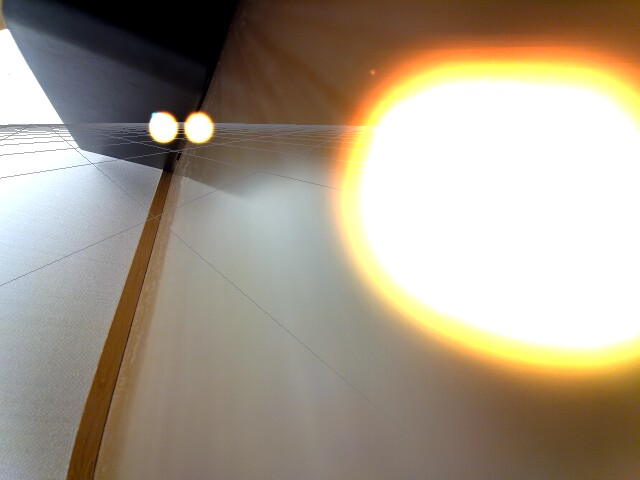firebig: (321, 36, 640, 381)
